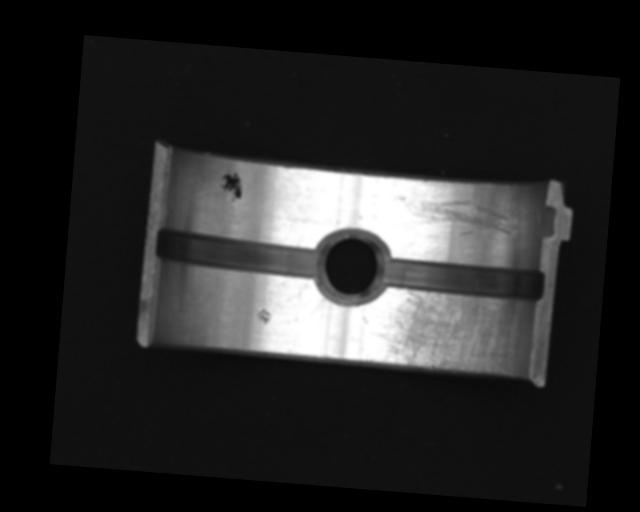blot: (217, 169, 244, 202)
bruise: (253, 307, 272, 326)
gap: (152, 230, 325, 279), (378, 254, 546, 303)
hole: (311, 225, 392, 305)
nick: (391, 192, 514, 241), (300, 295, 326, 325)
scratch: (356, 284, 529, 378)
